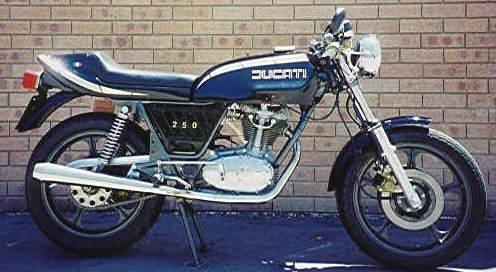motorcycle: (5, 3, 493, 272)
